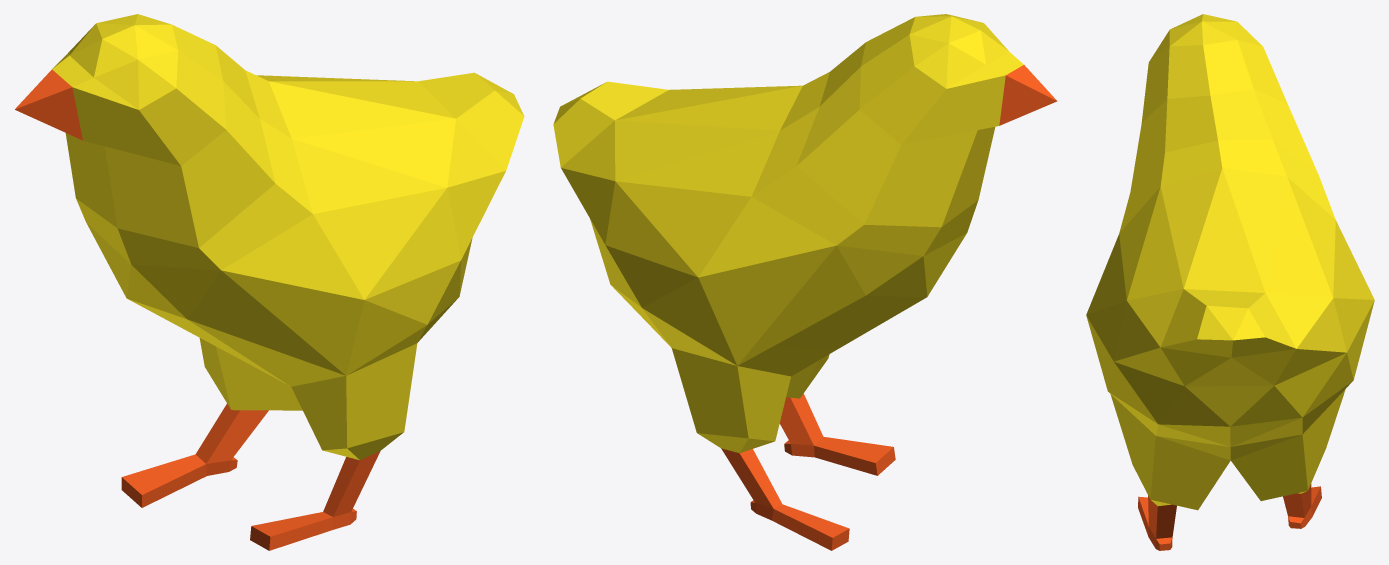
Rendered from chickWalking9.obj.
3 renders of one model, left to right at view 1: azimuth 30°, elevation 25°; view 2: azimuth 150°, elevation 25°; view 3: azimuth 270°, elevation 25°, orthographic. The views are drawn at different scales.
Visible parts, largest first — view 1: Icosphere.001_Icosphere.002; view 2: Icosphere.001_Icosphere.002; view 3: Icosphere.001_Icosphere.002.
Part boxes in pixels (x1,y1,x2,y2): Icosphere.001_Icosphere.002: (15, 14, 524, 550); Icosphere.001_Icosphere.002: (553, 14, 1057, 550); Icosphere.001_Icosphere.002: (1086, 14, 1374, 550).
Size of the model in its own units: 13.23 by 13.15 by 7.53.
